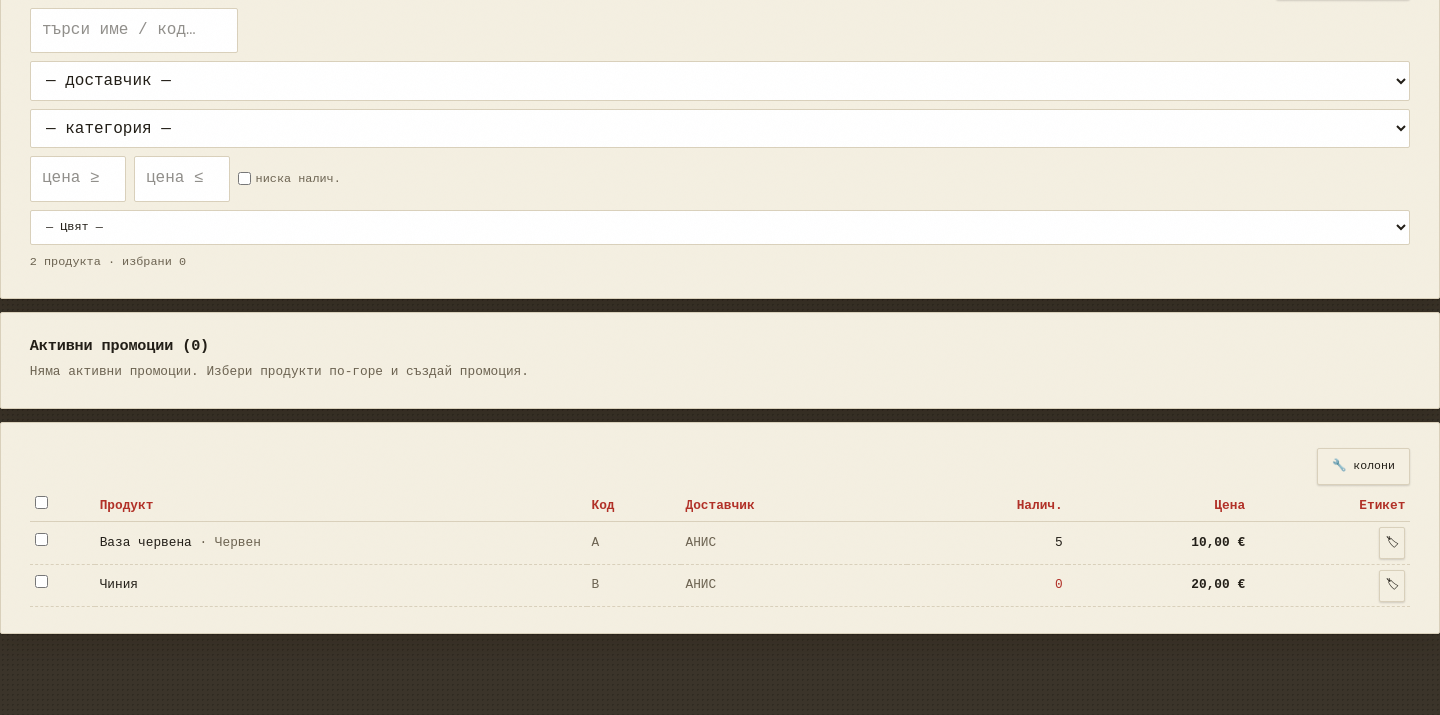
Scenario: ProductBulkPricing › previews a general mass field edit (Масова редакция)
Click the checkbox named "Ваза червена". click: {"x": 41, "y": 539}
box: [35,533,48,546]
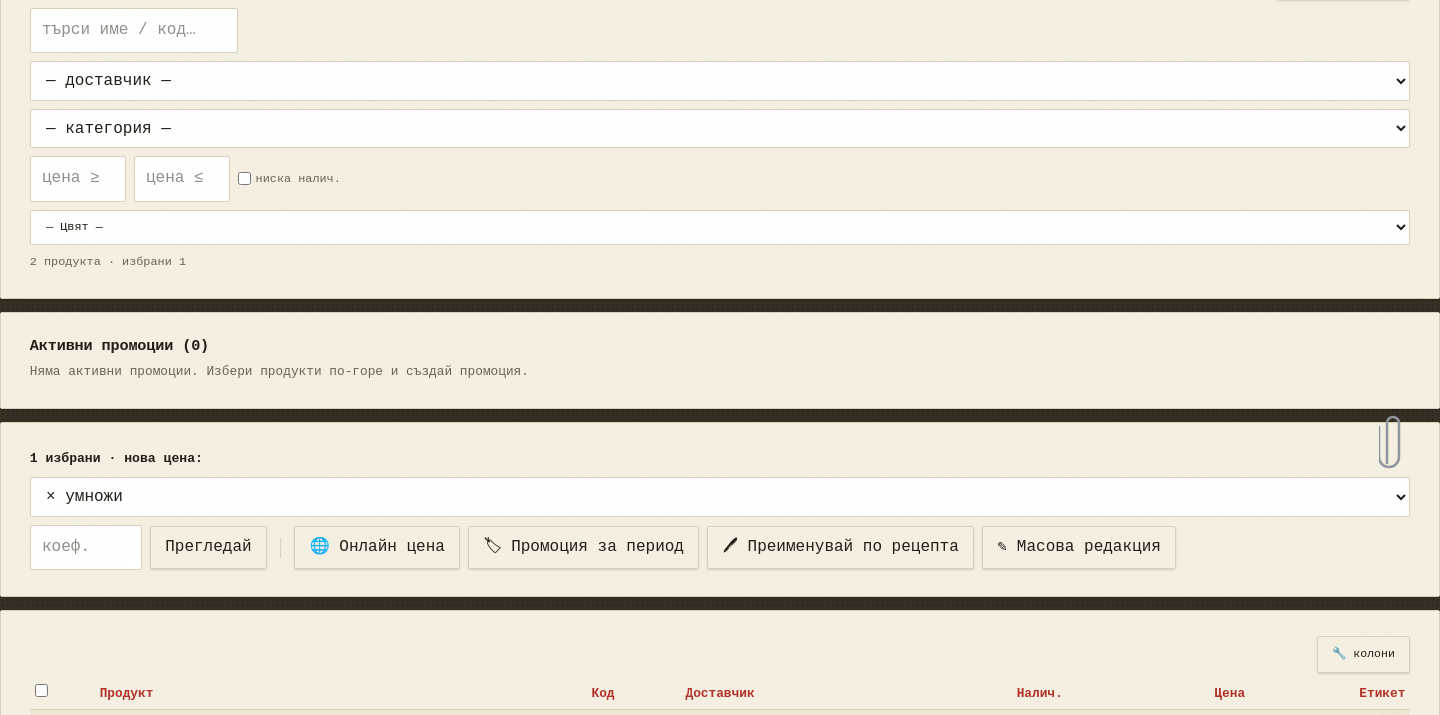
Click the button "✎ Масова редакция". click: {"x": 1079, "y": 548}
box: [982,526,1176,569]
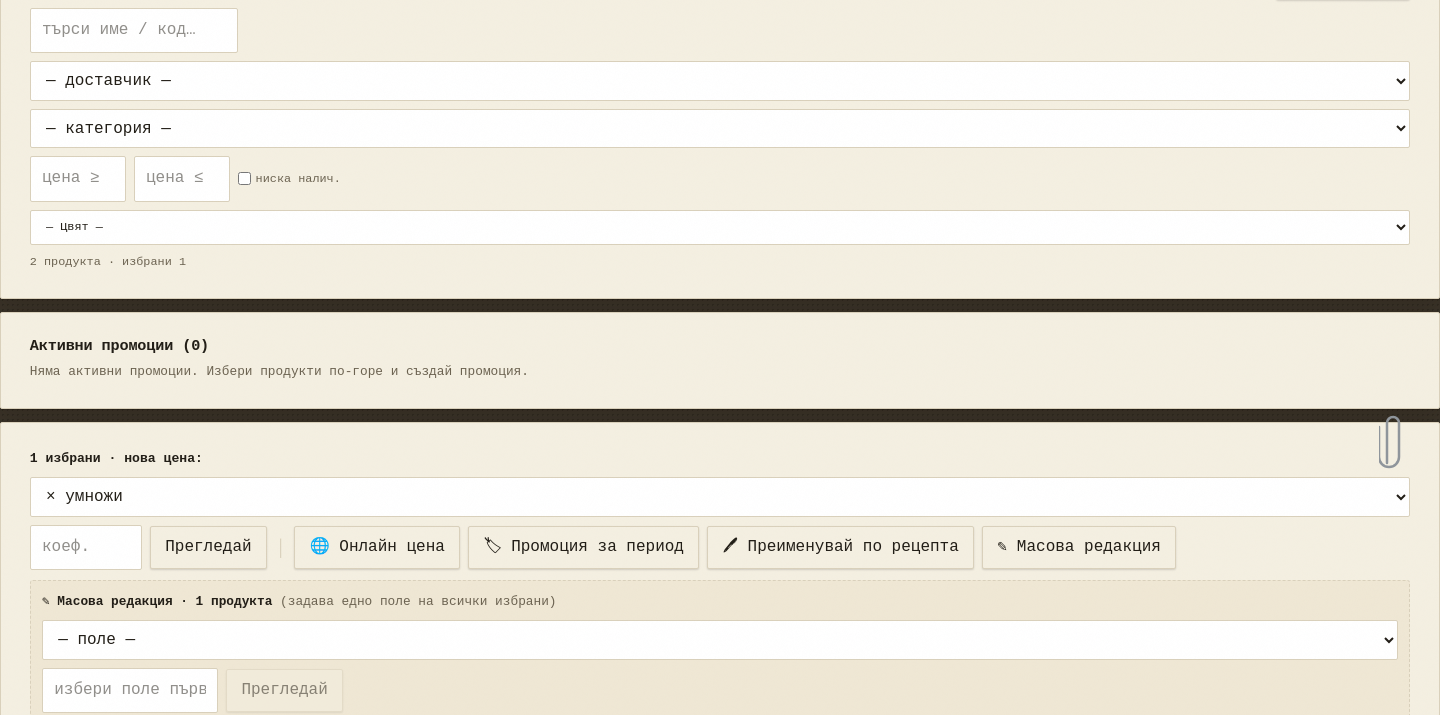
Select "Публичен" in the dropdown below "✎ Масова редакция ·". click: {"x": 720, "y": 640}
box: [42,620,1398,660]
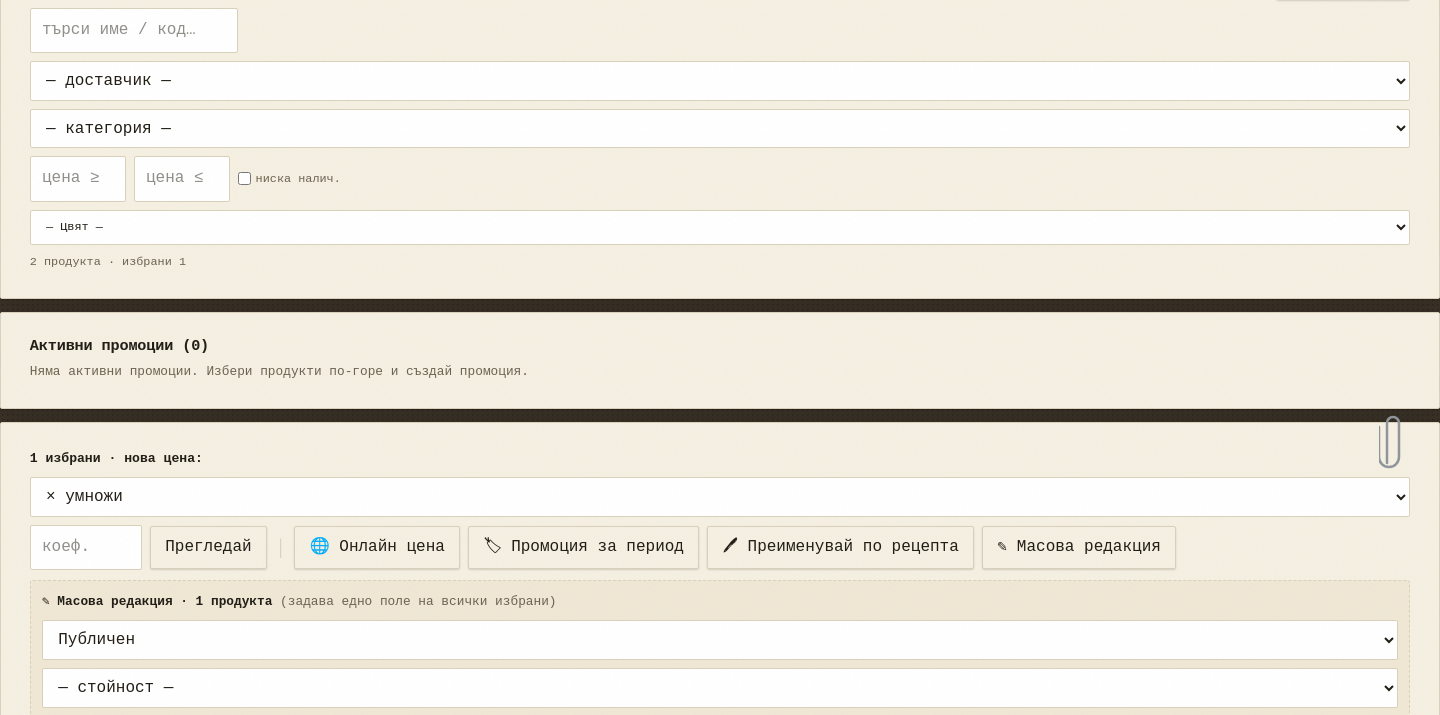
// checkbox field → a Да/Не value select appears
Select "Не" in the 6th dropdown. click: {"x": 720, "y": 688}
box: [42,668,1398,708]
(page scrolled)
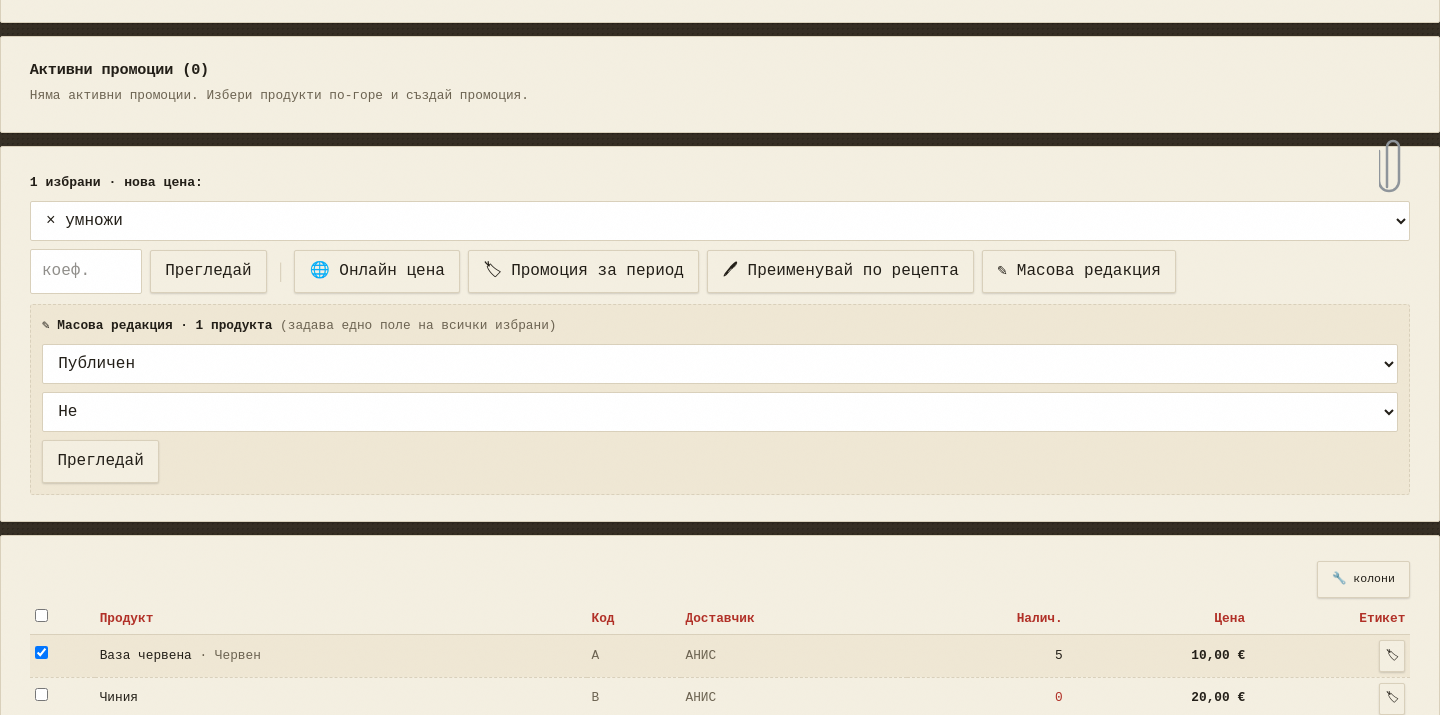
Click the button "Прегледай" below "✎ Масова редакция ·". click: {"x": 101, "y": 461}
box: [42,440,159,483]
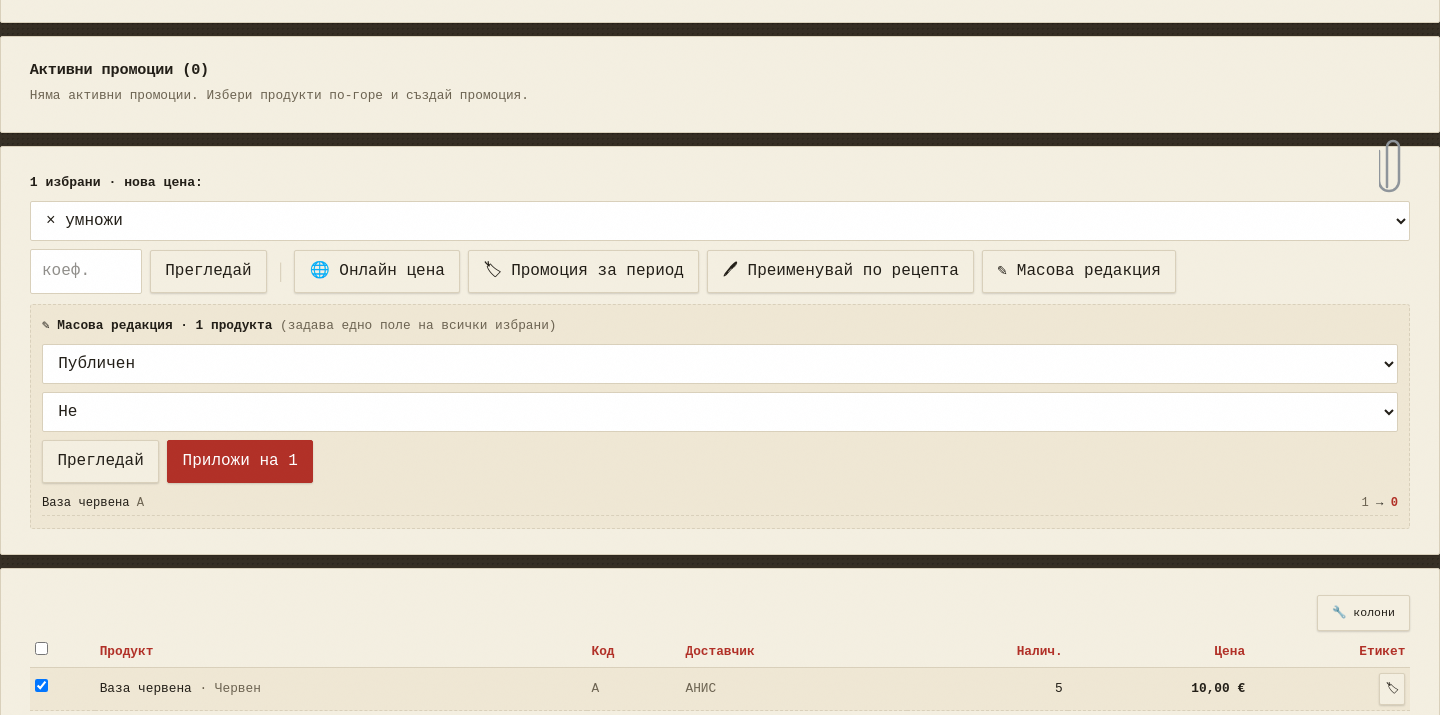
Result: the button "Приложи на 1" is shown at [167,440,313,483]
